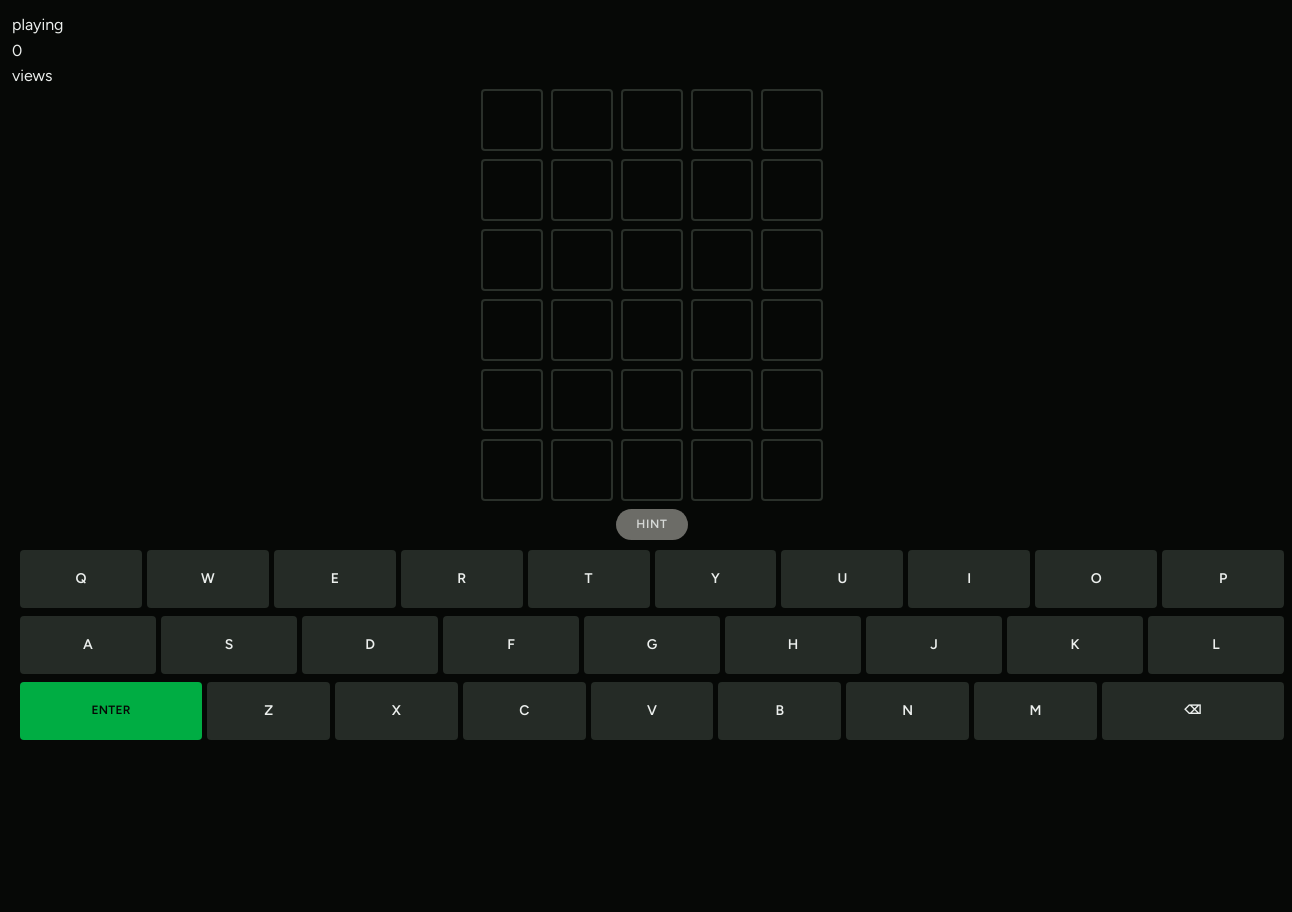
Test case: Full game integration › submitting a valid guess increments guess count
What coordinates should you click on to do the following:
click the button "C"
I would click on:
 (524, 711)
Its box is left=463, top=682, right=586, bottom=740.
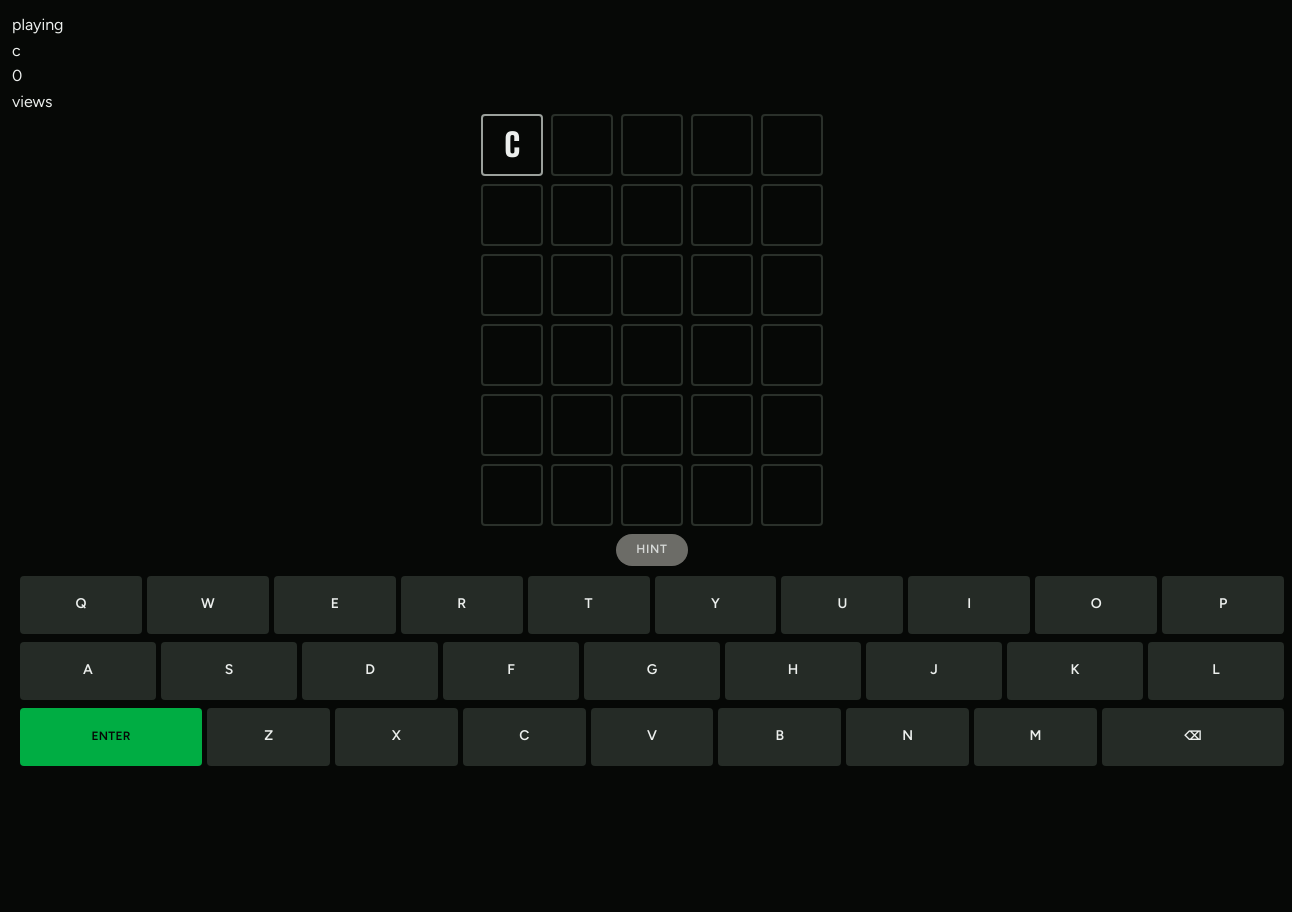
What coordinates should you click on to do the following:
click the button "R"
I would click on:
 (462, 605)
Its box is left=401, top=576, right=523, bottom=634.
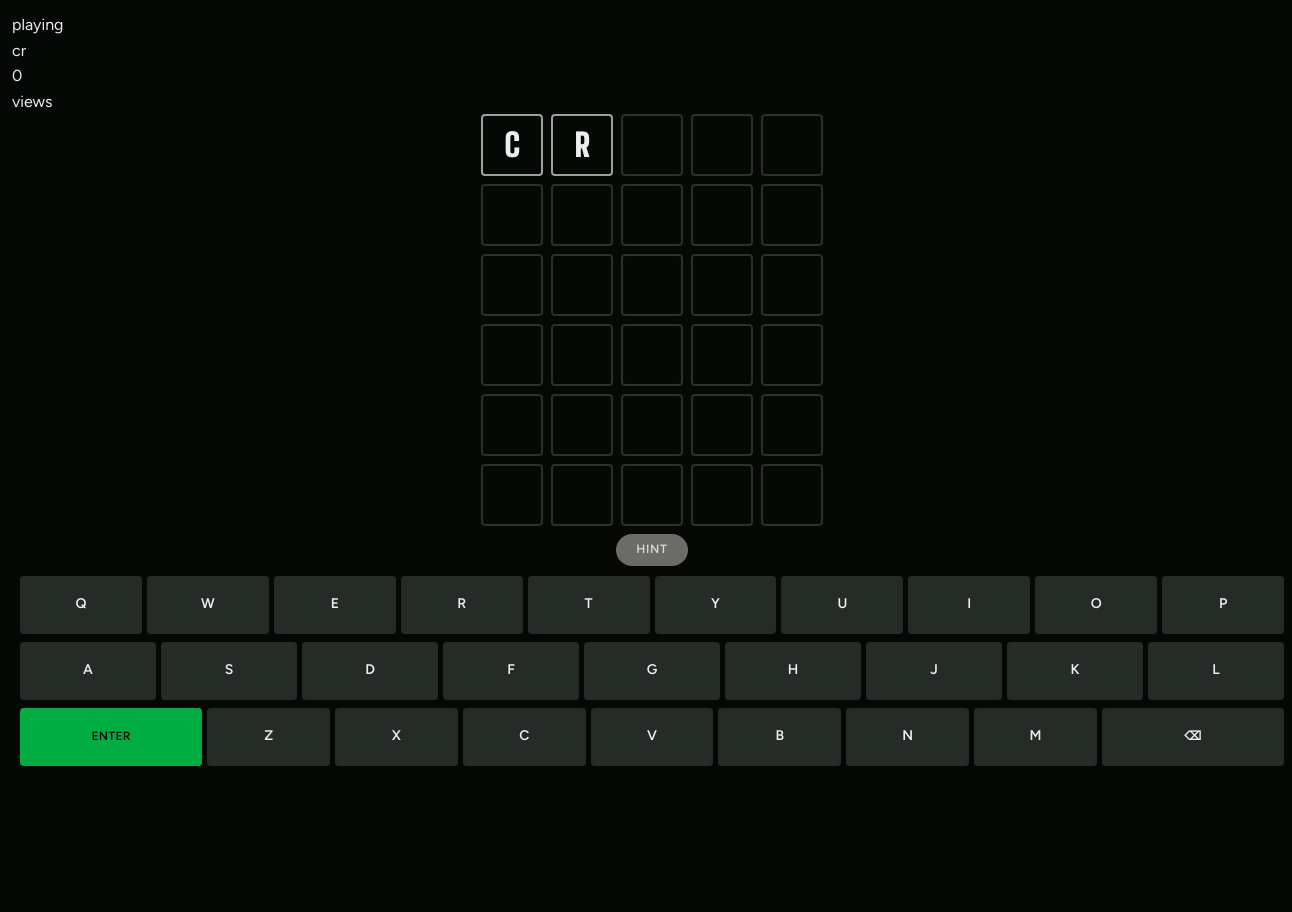
What coordinates should you click on to do the following:
click the button "A"
I would click on:
 (88, 671)
Its box is left=20, top=642, right=156, bottom=700.
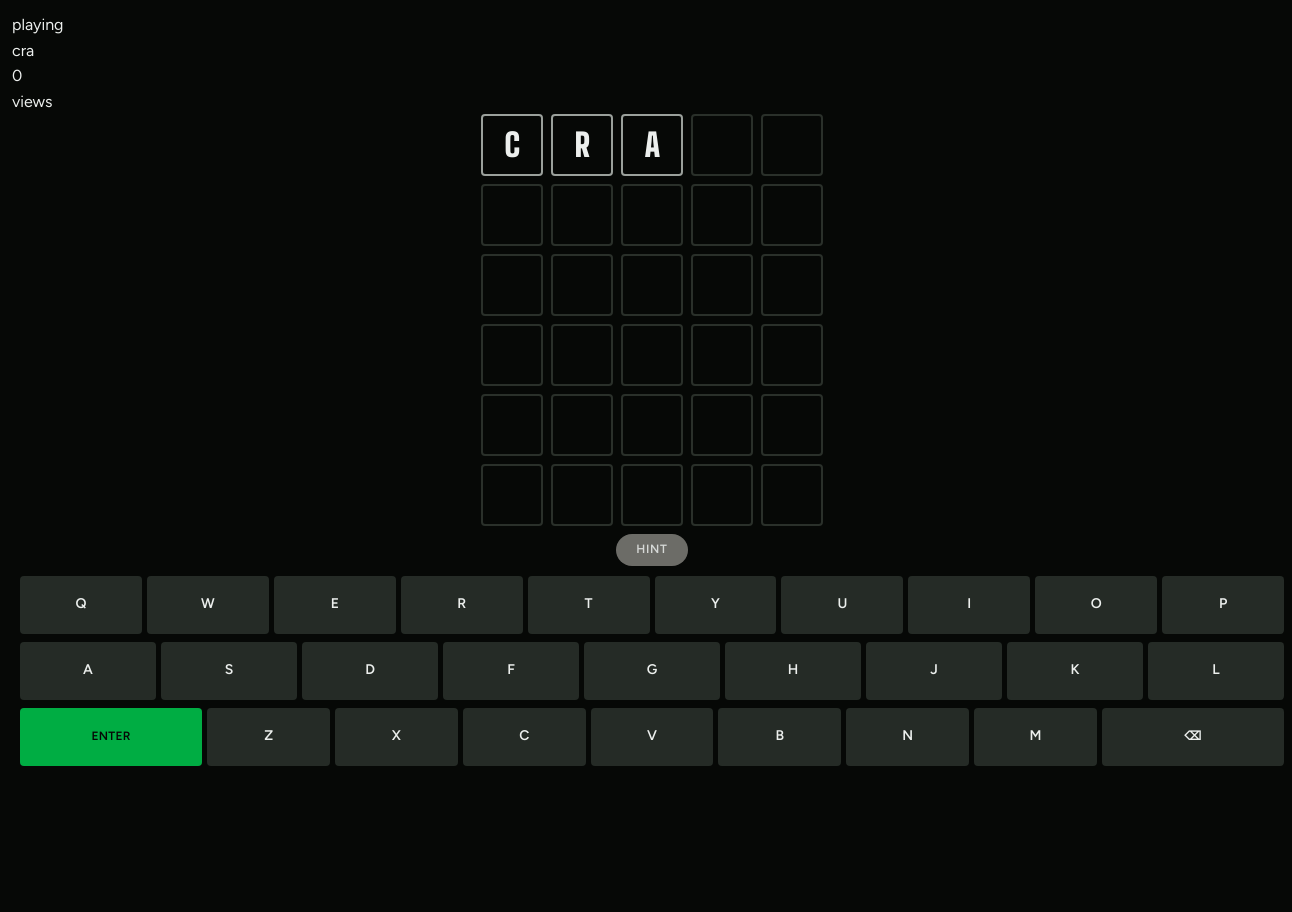
What coordinates should you click on to do the following:
click the button "N"
I would click on:
 (908, 737)
Its box is left=846, top=708, right=969, bottom=766.
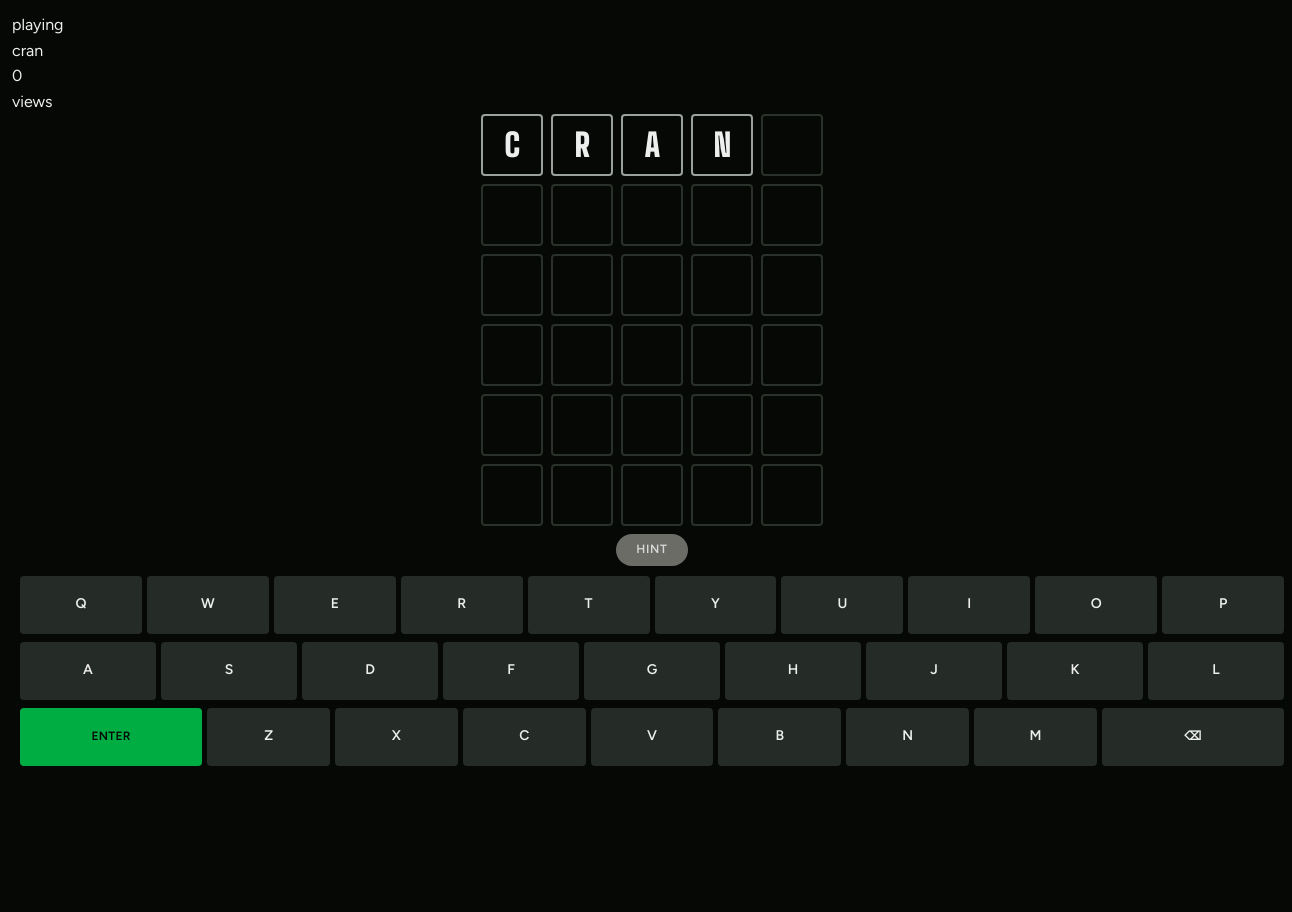
What coordinates should you click on to do the following:
click the button "E"
I would click on:
 (335, 605)
Its box is left=274, top=576, right=396, bottom=634.
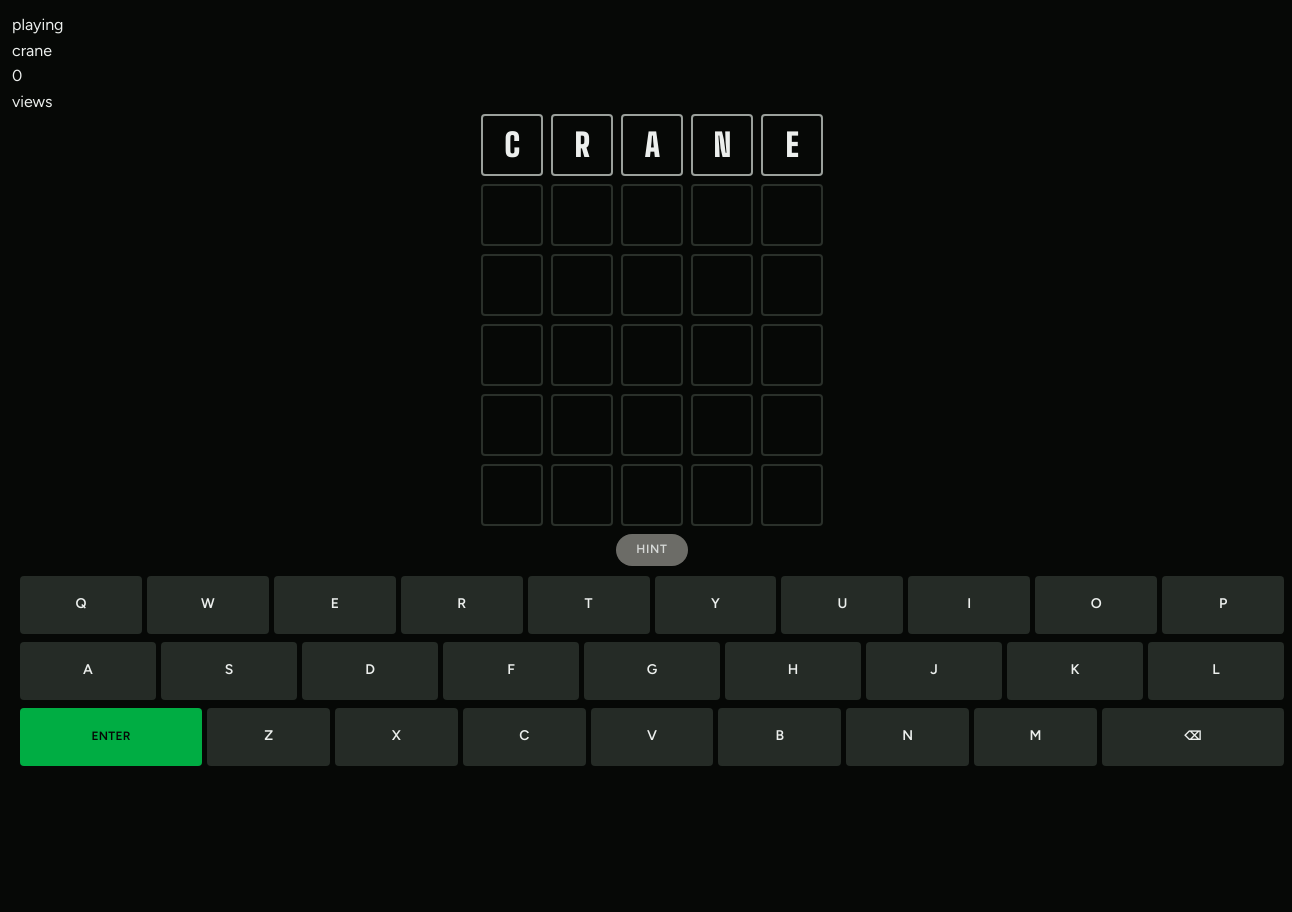
What coordinates should you click on to do the following:
click the button "ENTER"
I would click on:
 (111, 737)
Its box is left=20, top=708, right=202, bottom=766.
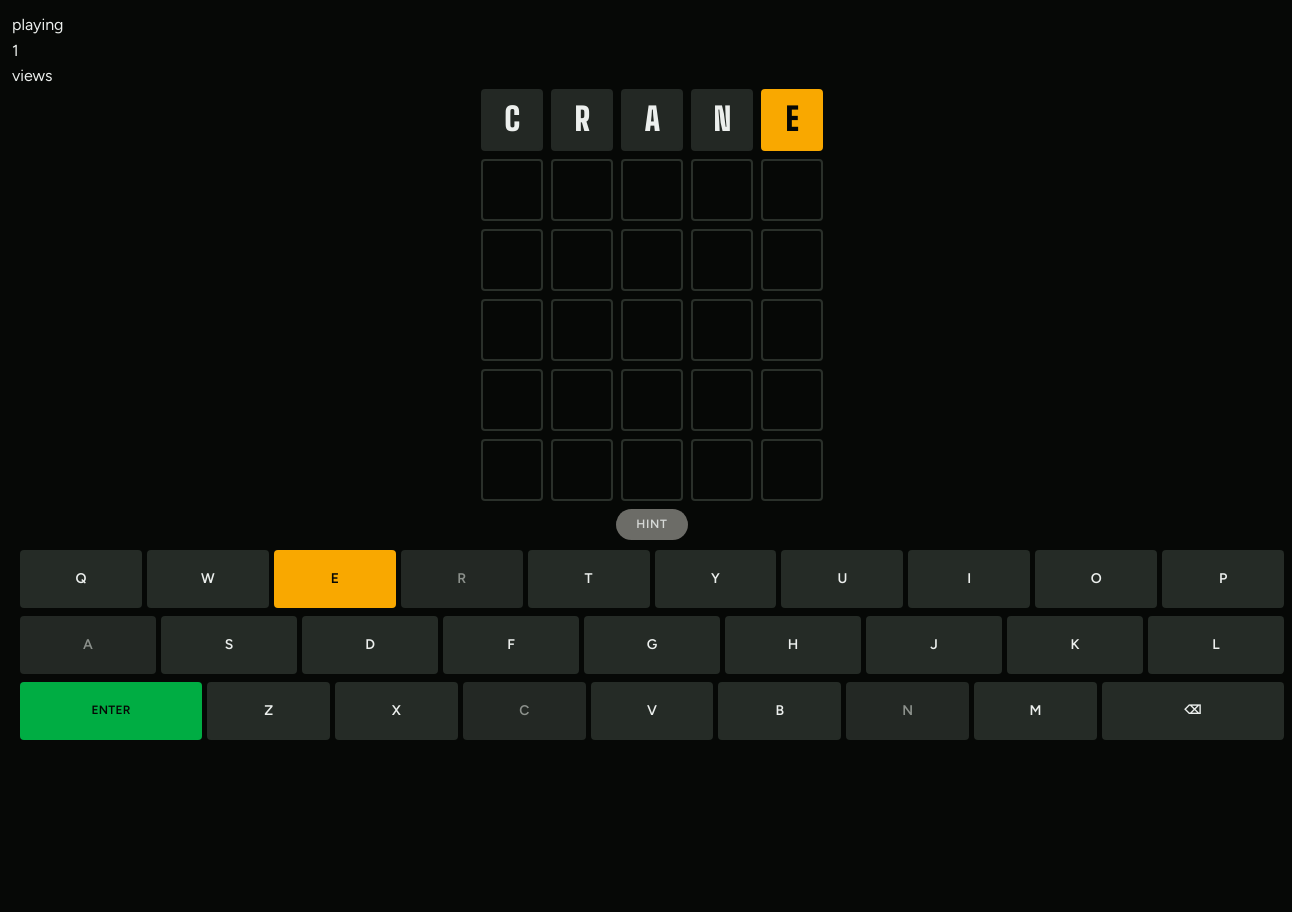
Now the text with test id "guess-count" reads "1", box left=12, top=41, right=19, bottom=60
